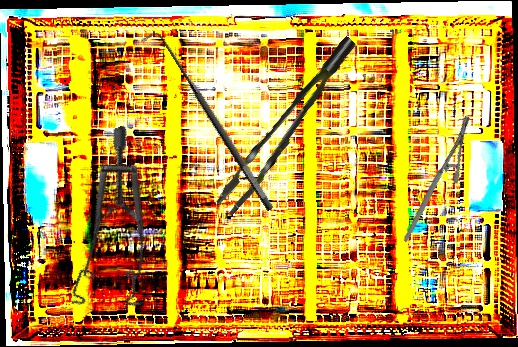Hook Surgical: (139, 24, 277, 221)
Needle Holder: (370, 114, 502, 243)
Speculum: (14, 124, 193, 330)
Tissue Forceps: (200, 35, 378, 217)
